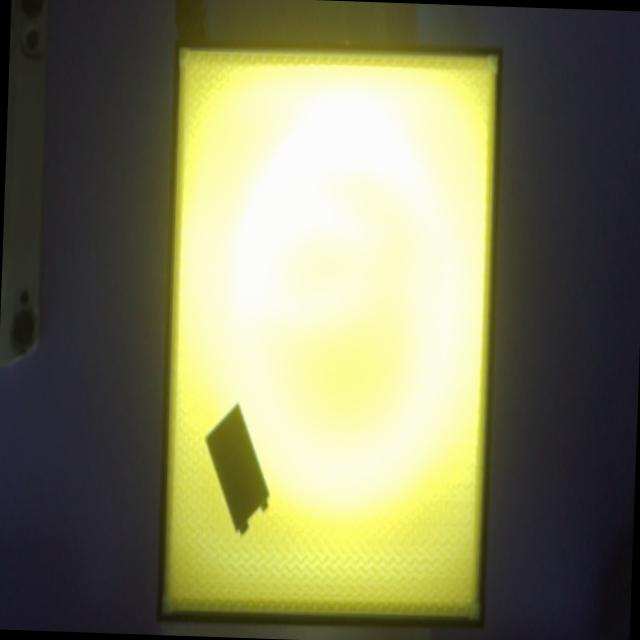bateria: (205, 403, 270, 533)
mesa: (156, 37, 502, 628)
